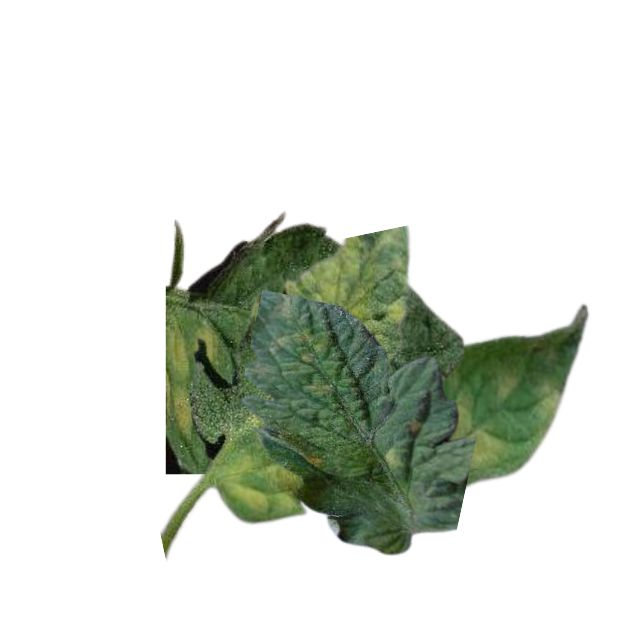Leaf_Mold: (280, 226, 408, 356), (216, 451, 306, 525), (447, 401, 508, 471), (271, 330, 332, 372), (530, 383, 563, 440), (164, 326, 191, 385), (167, 385, 197, 436), (492, 364, 522, 400), (192, 325, 218, 366), (301, 377, 338, 403), (381, 444, 403, 472), (304, 448, 328, 472)
